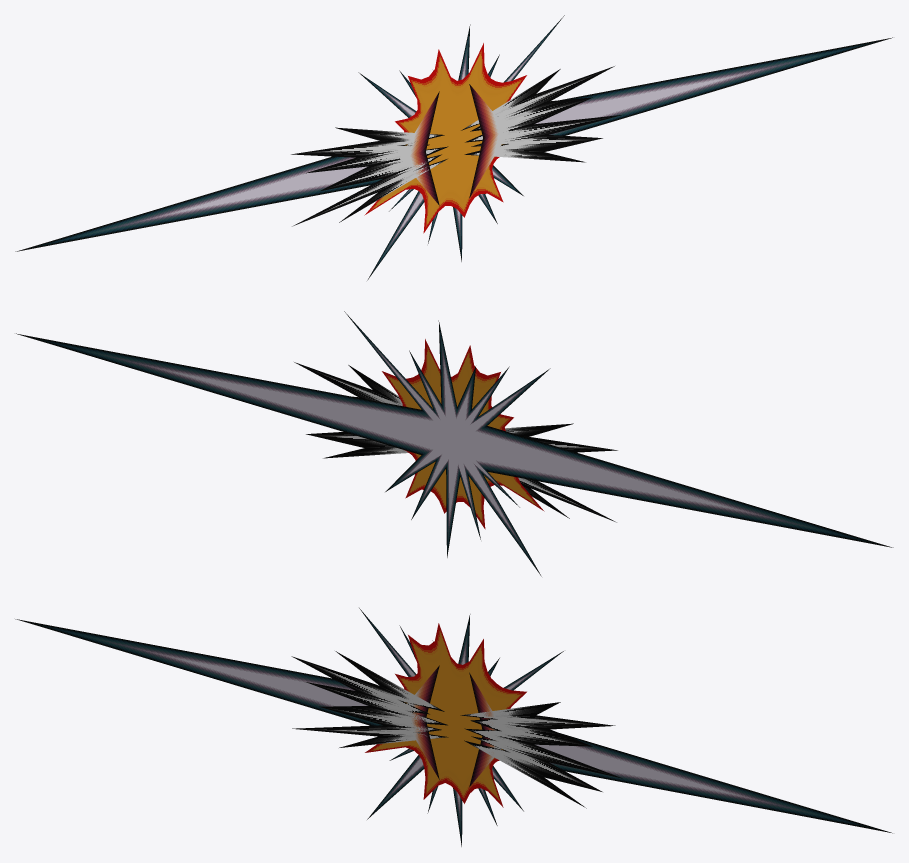
Rendered from vine-whip-cut.glb.
The picture shows the model from 3 angles, top to bottom: view 1: azimuth 30°, elevation 25°; view 2: azimuth 150°, elevation 25°; view 3: azimuth 330°, elevation 25°; orthographic projection.
Visible parts, largest first — view 1: polygon0, polygon4, polygon1, polygon3, polygon2; view 2: polygon0, polygon1, polygon4; view 3: polygon0, polygon4, polygon1, polygon2, polygon3.
Part boxes in pixels (x1,y1,x2,y2): polygon0: (15, 15, 892, 280); polygon4: (291, 66, 621, 226); polygon1: (364, 43, 526, 233); polygon3: (469, 84, 509, 197); polygon2: (399, 91, 439, 205); polygon0: (16, 311, 893, 576); polygon1: (382, 339, 544, 529); polygon4: (294, 362, 617, 522); polygon0: (15, 608, 892, 846); polygon4: (291, 651, 622, 808); polygon1: (365, 623, 526, 807); polygon2: (400, 665, 439, 779); polygon3: (469, 672, 509, 786).
Bounding box in the file's own units: 79.82 × 20.55 × 1e-05.
4 materials, 4 textured.
